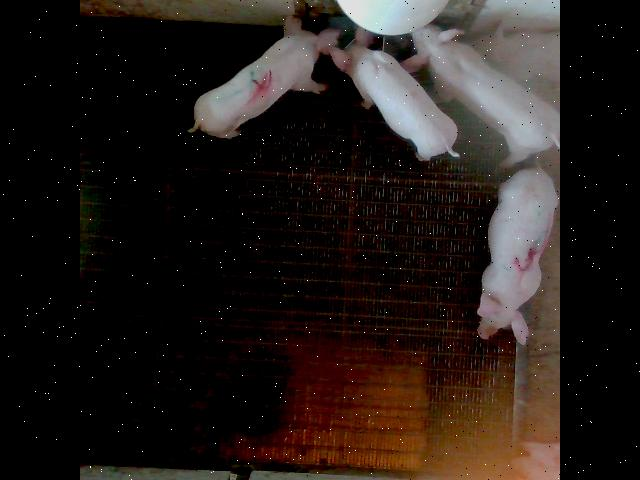pig-3: (478, 166, 557, 344)
pig-4: (190, 16, 338, 138)
